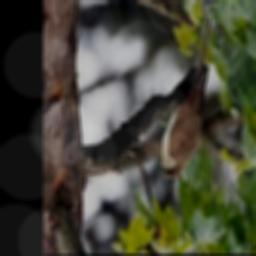Cuckoo: (156, 14, 211, 180)
